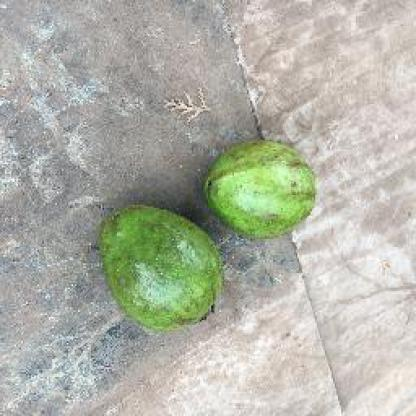guava: (97, 203, 226, 330), (201, 136, 315, 239)
